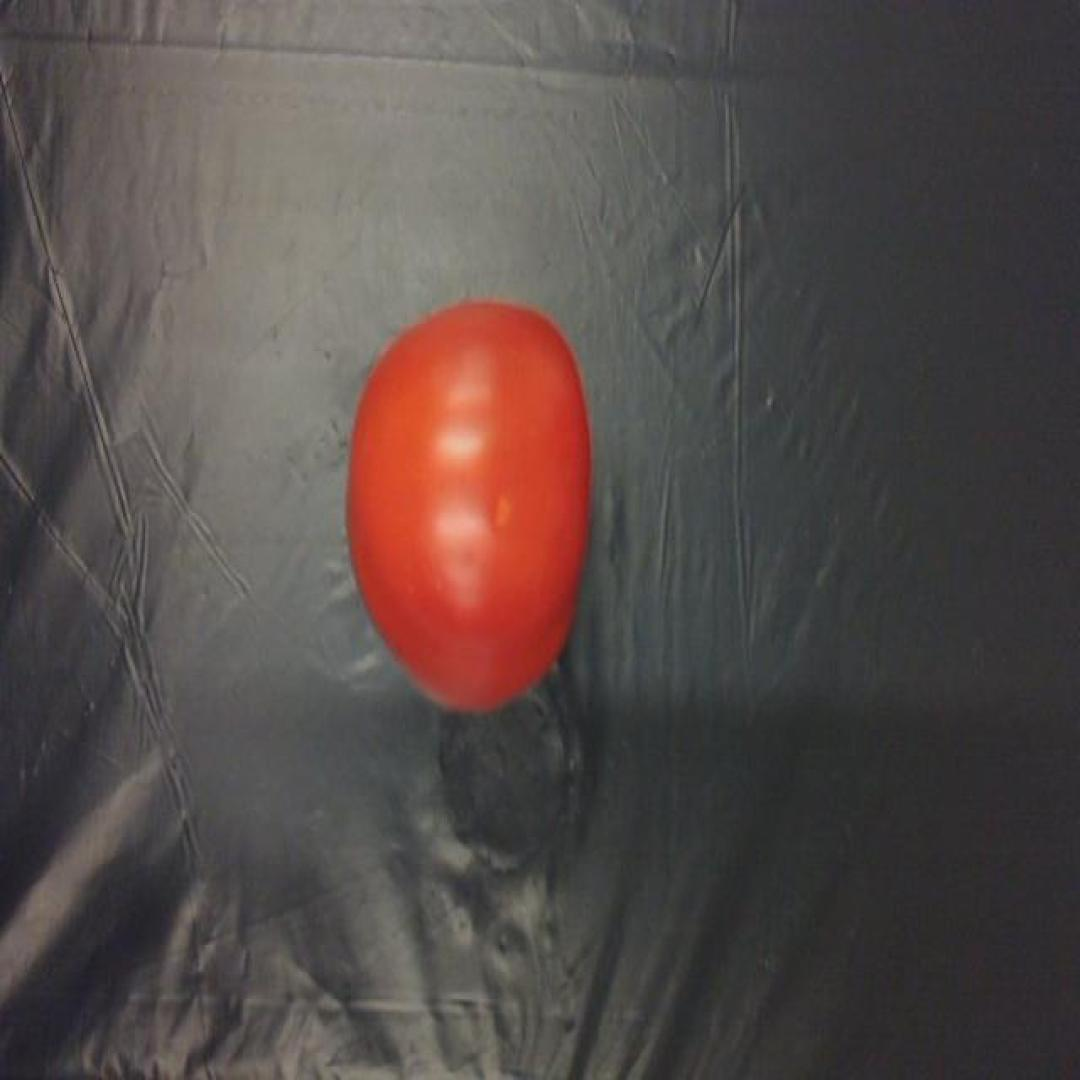matang: (342, 298, 590, 716)
